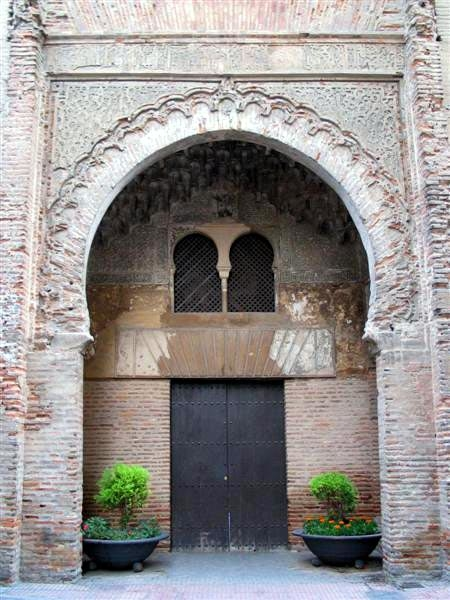arco-herradura: (62, 123, 398, 379), (168, 225, 224, 281), (225, 228, 277, 281)
dintel-adovelado: (137, 328, 318, 378)
